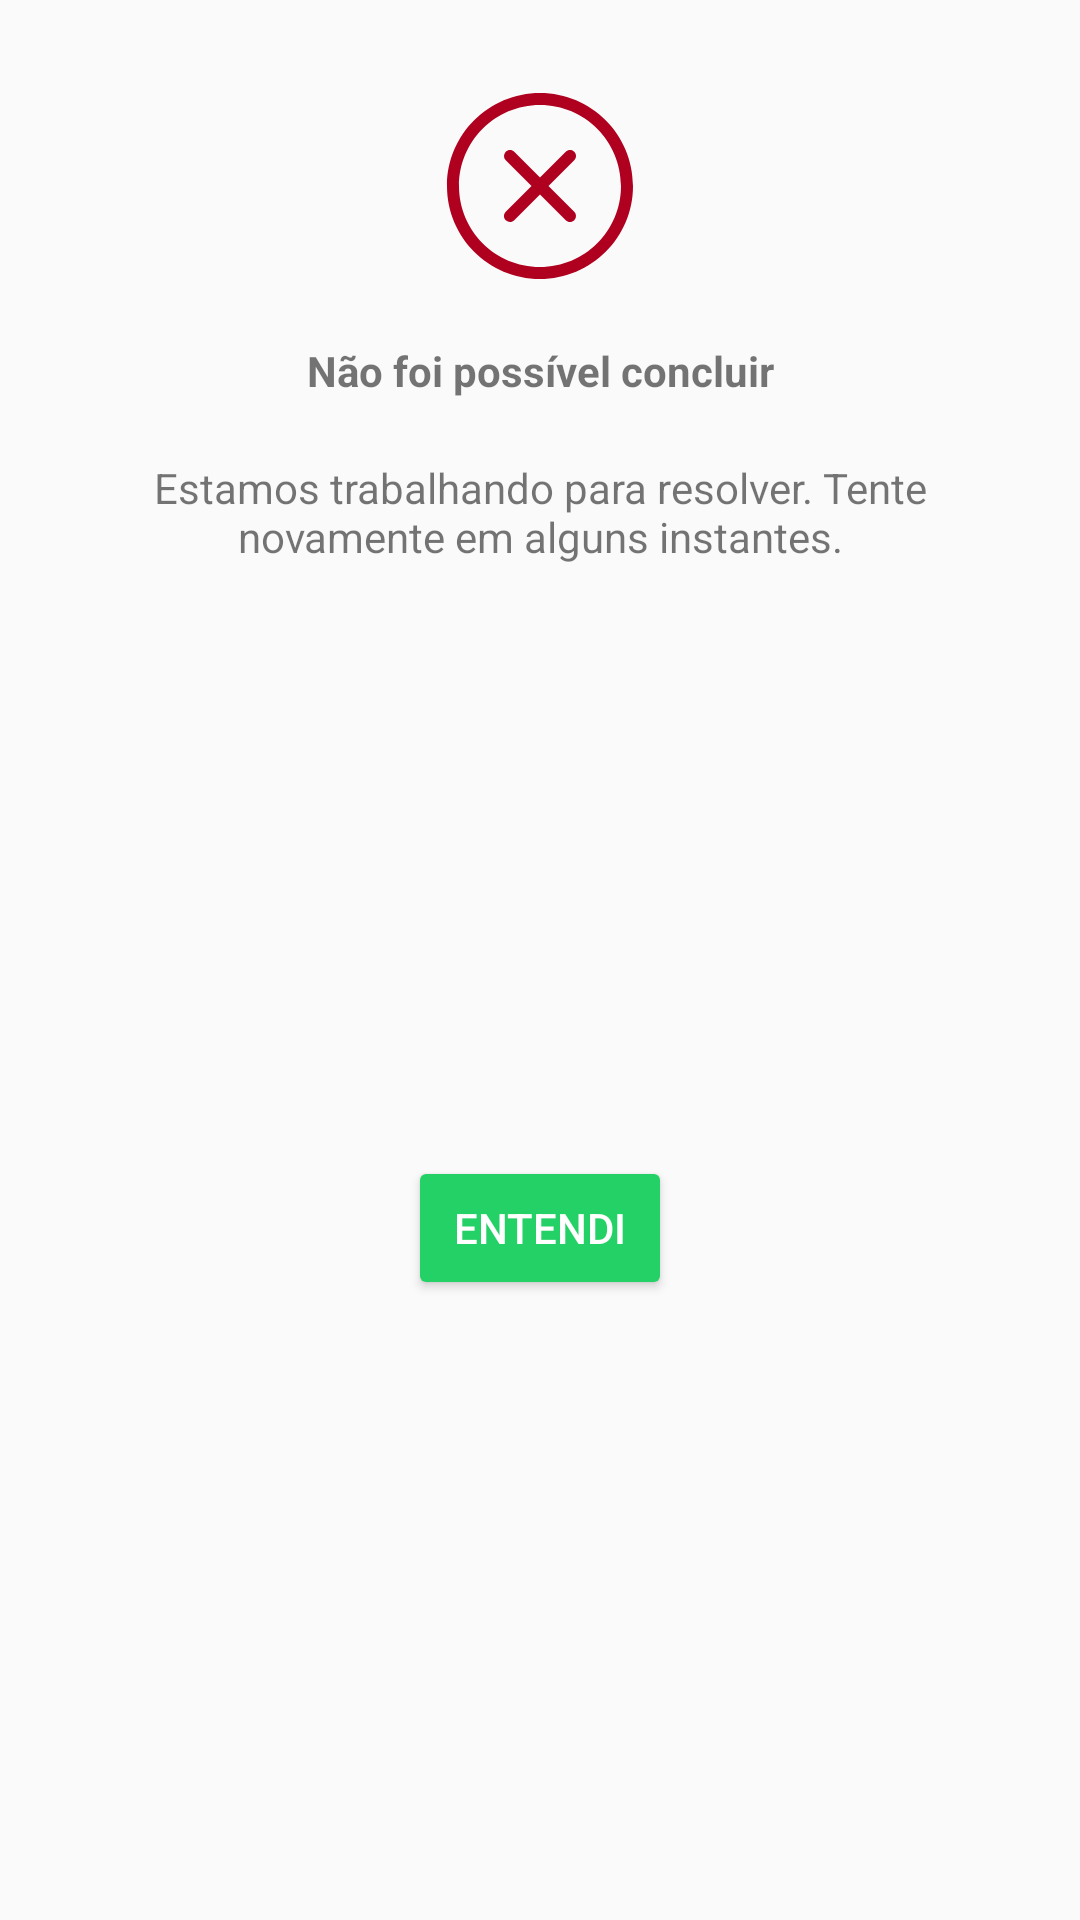

Icon click points for this 1080w x 1920h phone screenshot, format (x=x, y=y):
error circle: (x=540, y=186)
